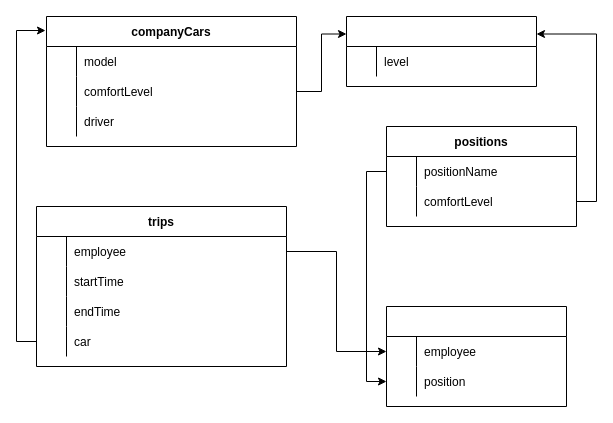
Some shapes in this 613 by 423 pixel diagram are drawn without their labels. The shapes that lost their labels are listed below. From the top down, each one's box as (x1, y1, x2, y2) in pixels, then its label:
(346, 16, 536, 86): comfort
(386, 306, 566, 406): employees
